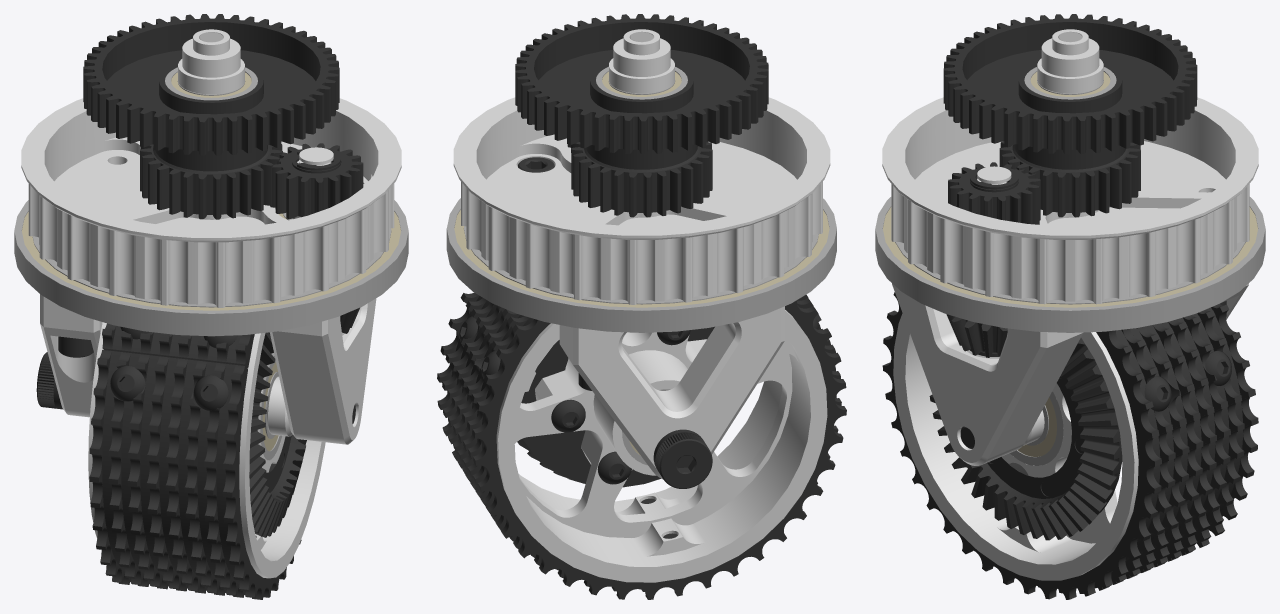
3 views of the same model, side by side, from view 1: azimuth 30°, elevation 25°; view 2: azimuth 150°, elevation 25°; view 3: azimuth 270°, elevation 25° (orthographic).
Visible parts, largest first — view 1: MK3 Base Pulley V3, Tread, Black Nitrile 4in X 1.5in, Double Gear, 20DP, 27T, 50T, 3.5" ID X-Contact Bearing (4" OD, 0.25" WD, Shielded), Wheel Mount B Gen2, Wheel, SDS, Nitrile Tread, 4in X 1.5in, Bearing Bore, Bevel Gear, 4515, Gear, 17T, 20DP, .375Hex, Wheel Mount A, MK3 Center Column, #10-32 x 0.375" L BHCS (Steel, Black Oxide) (×2), 15mm ID Bearing (24mm OD, 5mm WD, Shielded) (+5 smaller); view 2: MK3 Base Pulley V3, Wheel, SDS, Nitrile Tread, 4in X 1.5in, Bearing Bore, Double Gear, 20DP, 27T, 50T, Tread, Black Nitrile 4in X 1.5in, Wheel Mount A, 3.5" ID X-Contact Bearing (4" OD, 0.25" WD, Shielded), Bevel Gear, 4515, MK3 Center Column, Screw, Shoulder, .375 X 2.5, 5_16-18, 91259A634_91259A634, #10-32 x 0.75" L BHCS (Steel, Black Oxide) (×2), 15mm ID Bearing (24mm OD, 5mm WD, Shielded); view 3: MK3 Base Pulley V3, Double Gear, 20DP, 27T, 50T, Tread, Black Nitrile 4in X 1.5in, Wheel, SDS, Nitrile Tread, 4in X 1.5in, Bearing Bore, Wheel Mount B Gen2, 3.5" ID X-Contact Bearing (4" OD, 0.25" WD, Shielded), Bevel Gear, 4515, Gear, 17T, 20DP, .375Hex, MK3 Center Column, 0.500" ID Bearing (1.125" OD, 0.313" WD, Shielded), Bevel Gear, 1545, #10-32 x 0.375" L BHCS (Steel, Black Oxide) (×2) (+2 smaller).
Part boxes in pixels (x1,y1,x2,y2): MK3 Base Pulley V3: [21, 98, 401, 307]; Tread, Black Nitrile 4in X 1.5in: [89, 323, 301, 599]; Double Gear, 20DP, 27T, 50T: [83, 14, 339, 219]; 3.5" ID X-Contact Bearing (4" OD, 0.25" WD, Shielded): [14, 200, 408, 336]; Wheel Mount B Gen2: [269, 298, 376, 444]; Wheel, SDS, Nitrile Tread, 4in X 1.5in, Bearing Bore: [88, 322, 325, 578]; Bevel Gear, 4515: [249, 332, 306, 537]; Gear, 17T, 20DP, .375Hex: [270, 143, 363, 219]; Wheel Mount A: [40, 294, 102, 417]; MK3 Center Column: [178, 29, 244, 94]; #10-32 x 0.375" L BHCS (Steel, Black Oxide) (×2): [110, 366, 228, 410]; 15mm ID Bearing (24mm OD, 5mm WD, Shielded): [165, 67, 257, 100]; MK3 Base Pulley V3: [453, 97, 830, 304]; Wheel, SDS, Nitrile Tread, 4in X 1.5in, Bearing Bore: [496, 310, 827, 582]; Double Gear, 20DP, 27T, 50T: [515, 14, 768, 217]; Tread, Black Nitrile 4in X 1.5in: [437, 292, 846, 599]; Wheel Mount A: [559, 306, 784, 479]; 3.5" ID X-Contact Bearing (4" OD, 0.25" WD, Shielded): [446, 198, 836, 332]; Bevel Gear, 4515: [517, 326, 714, 487]; MK3 Center Column: [609, 29, 674, 93]; Screw, Shoulder, .375 X 2.5, 5_16-18, 91259A634_91259A634: [653, 429, 712, 488]; #10-32 x 0.75" L BHCS (Steel, Black Oxide) (×2): [551, 399, 631, 484]; 15mm ID Bearing (24mm OD, 5mm WD, Shielded): [596, 66, 687, 99]; MK3 Base Pulley V3: [882, 97, 1258, 304]; Double Gear, 20DP, 27T, 50T: [943, 14, 1197, 217]; Tread, Black Nitrile 4in X 1.5in: [882, 292, 1258, 599]; Wheel, SDS, Nitrile Tread, 4in X 1.5in, Bearing Bore: [893, 313, 1138, 580]; Wheel Mount B Gen2: [892, 283, 1082, 465]; 3.5" ID X-Contact Bearing (4" OD, 0.25" WD, Shielded): [875, 197, 1265, 332]; Bevel Gear, 4515: [929, 338, 1122, 540]; Gear, 17T, 20DP, .375Hex: [948, 162, 1040, 224]; MK3 Center Column: [1037, 29, 1103, 93]; 0.500" ID Bearing (1.125" OD, 0.313" WD, Shielded): [1010, 391, 1063, 465]; Bevel Gear, 1545: [946, 314, 1007, 357]; #10-32 x 0.375" L BHCS (Steel, Black Oxide) (×2): [1144, 351, 1231, 411].
Size of the model in its own units: 0.1016 by 0.1528 by 0.1016.
